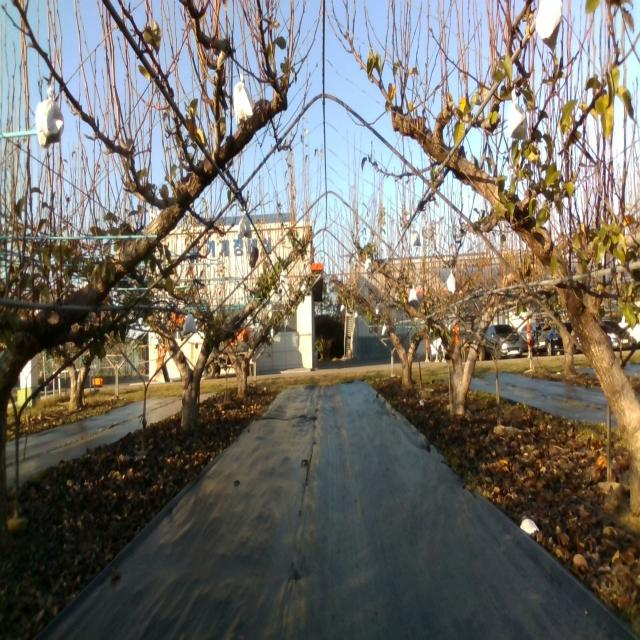pearbags: (34, 88, 64, 146), (535, 0, 563, 51), (506, 89, 530, 141), (233, 74, 253, 125), (182, 313, 198, 337), (238, 215, 252, 241), (411, 226, 421, 246)
